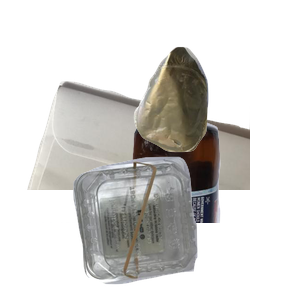glass: (29, 120, 242, 300)
paper: (25, 79, 265, 259)
plastic: (71, 154, 300, 300)
trash: (131, 44, 300, 189)
